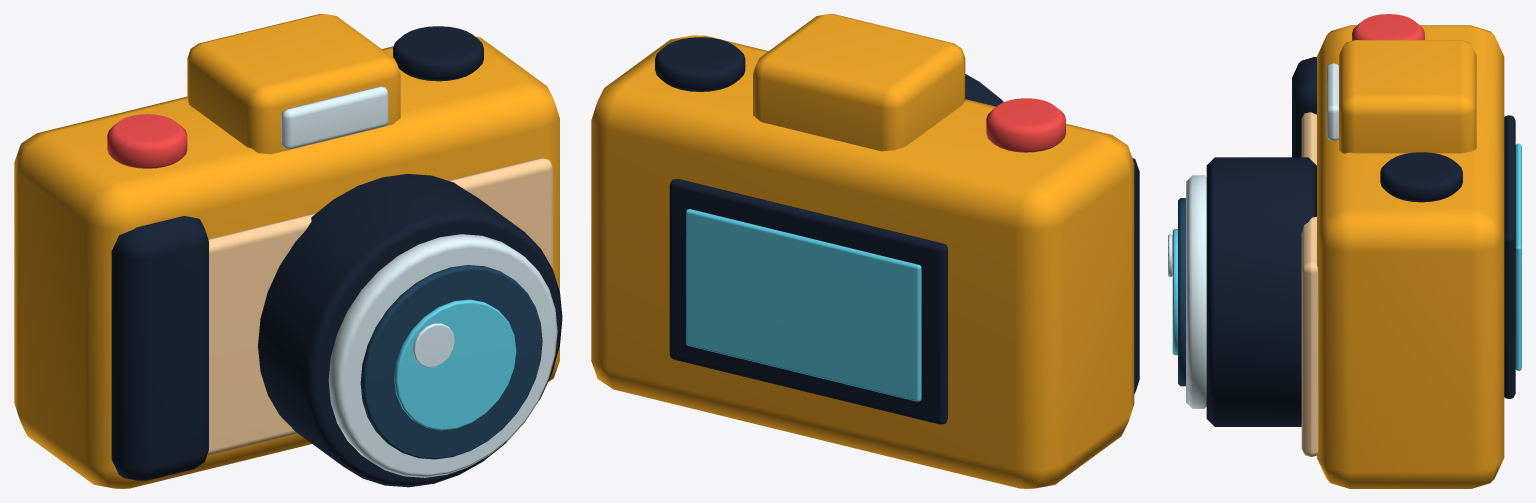
Rendered from camera.glb.
The picture shows the model from 3 angles, left to right: view 1: azimuth 30°, elevation 25°; view 2: azimuth 150°, elevation 25°; view 3: azimuth 270°, elevation 25°; orthographic projection. The views are drawn at different scales.
Parts seen in each view (by area): view 1: camera; view 2: camera; view 3: camera.
Part boxes in pixels (box(x1,y1,x2,y2)): camera: box(14, 14, 562, 488); camera: box(591, 14, 1139, 488); camera: box(1168, 14, 1521, 488).
Bounding box in the file's own units: 1 × 0.7389 × 0.7133.
1 material, 1 textured.
